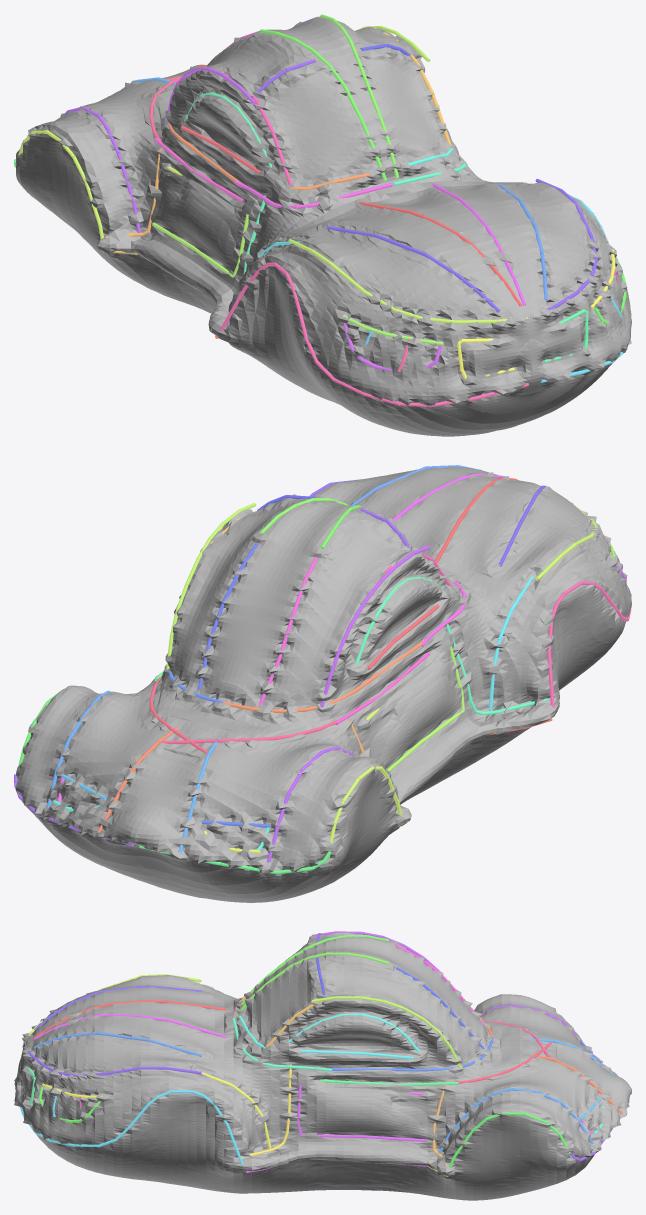
Rendered from author1_car.gltf.
3 views of the same model, one above another, from view 1: azimuth 30°, elevation 25°; view 2: azimuth 150°, elevation 25°; view 3: azimuth 270°, elevation 25° (orthographic). The views are drawn at different scales.
Size of the model in its own units: 0.4286 by 0.3454 by 0.8767.
